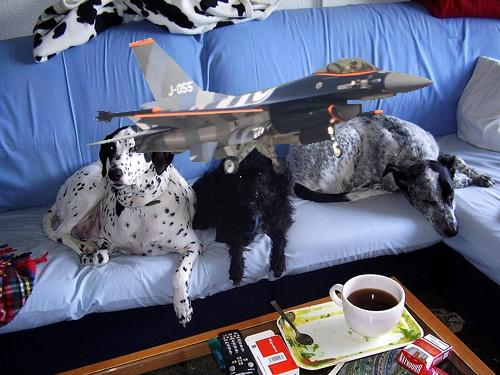tampered: (87, 39, 434, 174)
